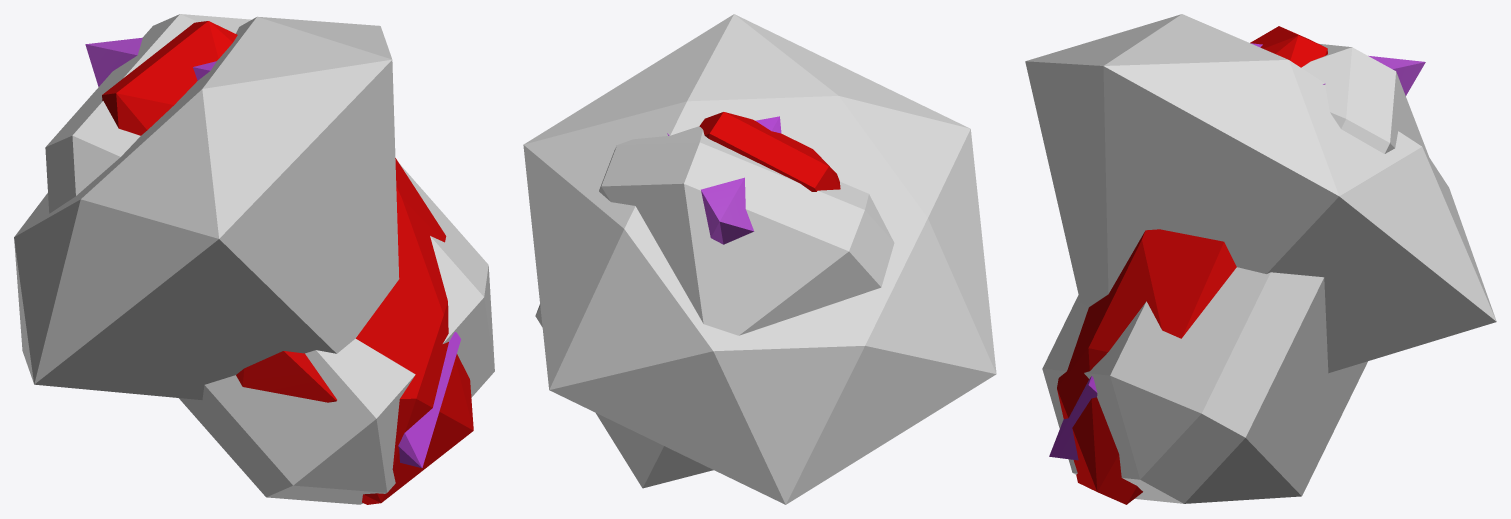
Rendered from gems.fbx.
The picture shows the model from 3 angles, left to right: view 1: azimuth 30°, elevation 25°; view 2: azimuth 150°, elevation 25°; view 3: azimuth 270°, elevation 25°; orthographic projection. The views are drawn at different scales.
Parts seen in each view (by area): view 1: diamond.002, emerald, oval, crystal; view 2: diamond.002, emerald, oval, crystal; view 3: diamond.002, emerald, oval, crystal.
Boxes of the visible parts, left/top/right/bottom form: diamond.002: left=14, top=16, right=399, bottom=399; emerald: left=45, top=14, right=494, bottom=504; oval: left=102, top=21, right=473, bottom=504; crystal: left=85, top=37, right=460, bottom=467; diamond.002: left=523, top=14, right=996, bottom=504; emerald: left=535, top=126, right=894, bottom=488; oval: left=699, top=112, right=840, bottom=191; crystal: left=667, top=116, right=781, bottom=244; diamond.002: left=1025, top=14, right=1496, bottom=373; emerald: left=1042, top=44, right=1428, bottom=503; oval: left=1057, top=26, right=1327, bottom=504; crystal: left=1049, top=43, right=1425, bottom=460.
Size of the model in its own units: 96.89 by 88.51 by 85.31.
